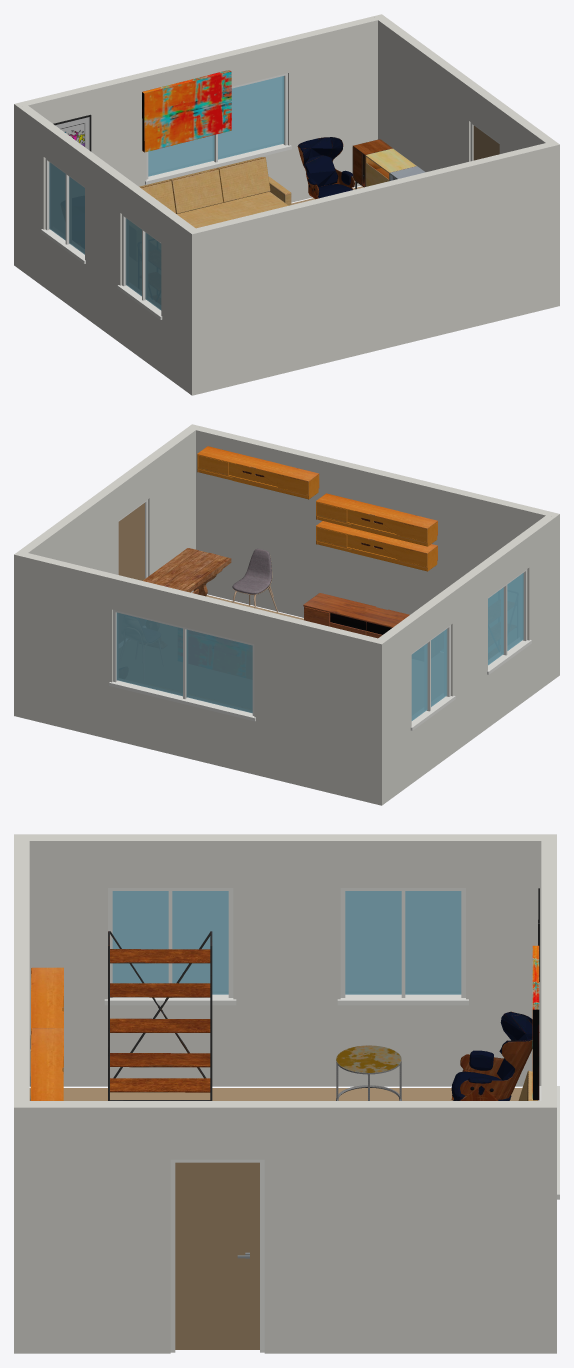
Rendered from holodeck.glb.
The picture shows the model from 3 angles, top to bottom: view 1: azimuth 30°, elevation 25°; view 2: azimuth 150°, elevation 25°; view 3: azimuth 270°, elevation 25°; orthographic projection. The views are drawn at different scales.
Parts seen in each view (by area): view 1: wall|scenesmith_067__R00|0, wall|scenesmith_067__R00|2, wall|scenesmith_067__R00|1, wall|scenesmith_067__R00|3, scenesmith_067__R00_0, wall|scenesmith_067__R00|1 Window 0 | glazing, scenesmith_067__R00_15, wall|scenesmith_067__R00|2 Window 0 | glazing, scenesmith_067__R00_3, wall|scenesmith_067__R00|2 Window 0 | jamb, scenesmith_067__R00_11, wall|scenesmith_067__R00|1 Window 0 | jamb (+2 smaller); view 2: wall|scenesmith_067__R00|1, wall|scenesmith_067__R00|0, wall|scenesmith_067__R00|2, wall|scenesmith_067__R00|3, scenesmith_067__R00_12, wall|scenesmith_067__R00|1 Window 0 | glazing, wall|scenesmith_067__R00|2 Window 0 | glazing, scenesmith_067__R00_1, scenesmith_067__R00_6, wall|scenesmith_067__R00|2 Window 0 | jamb, wall|scenesmith_067__R00|1 Window 0 | jamb, wall|scenesmith_067__R00|3 Door 0 | wood leaf (+1 smaller); view 3: wall|scenesmith_067__R00|3, wall|scenesmith_067__R00|2, wall|scenesmith_067__R00|2 Window 0 | glazing, wall|scenesmith_067__R00|3 Door 0 | wood leaf, scenesmith_067__R00_10, wall|scenesmith_067__R00|2 Window 0 | jamb, floor, scenesmith_067__R00_12, wall|scenesmith_067__R00|0, wall|scenesmith_067__R00|1, scenesmith_067__R00_3, wall|scenesmith_067__R00|3 Door 0 | jamb (+2 smaller).
Boxes of the visible parts, left/top/right/bottom form: wall|scenesmith_067__R00|0: left=187, top=143, right=559, bottom=395; wall|scenesmith_067__R00|2: left=14, top=104, right=200, bottom=395; wall|scenesmith_067__R00|1: left=14, top=16, right=377, bottom=202; wall|scenesmith_067__R00|3: left=373, top=14, right=559, bottom=171; scenesmith_067__R00_0: left=139, top=157, right=291, bottom=228; wall|scenesmith_067__R00|1 Window 0 | glazing: left=148, top=76, right=284, bottom=176; scenesmith_067__R00_15: left=142, top=70, right=231, bottom=152; wall|scenesmith_067__R00|2 Window 0 | glazing: left=49, top=162, right=161, bottom=310; scenesmith_067__R00_3: left=297, top=137, right=354, bottom=199; wall|scenesmith_067__R00|2 Window 0 | jamb: left=41, top=158, right=162, bottom=319; scenesmith_067__R00_11: left=352, top=139, right=425, bottom=189; wall|scenesmith_067__R00|1 Window 0 | jamb: left=145, top=73, right=291, bottom=184; wall|scenesmith_067__R00|1: left=23, top=553, right=386, bottom=803; wall|scenesmith_067__R00|0: left=196, top=426, right=559, bottom=617; wall|scenesmith_067__R00|2: left=373, top=514, right=559, bottom=805; wall|scenesmith_067__R00|3: left=14, top=424, right=200, bottom=717; scenesmith_067__R00_12: left=197, top=446, right=437, bottom=571; wall|scenesmith_067__R00|1 Window 0 | glazing: left=116, top=612, right=252, bottom=713; wall|scenesmith_067__R00|2 Window 0 | glazing: left=411, top=573, right=523, bottom=720; scenesmith_067__R00_1: left=303, top=593, right=409, bottom=638; scenesmith_067__R00_6: left=143, top=548, right=231, bottom=596; wall|scenesmith_067__R00|2 Window 0 | jamb: left=410, top=569, right=531, bottom=730; wall|scenesmith_067__R00|1 Window 0 | jamb: left=109, top=610, right=255, bottom=721; wall|scenesmith_067__R00|3 Door 0 | wood leaf: left=118, top=503, right=144, bottom=580; wall|scenesmith_067__R00|3: left=14, top=1101, right=556, bottom=1353; wall|scenesmith_067__R00|2: left=29, top=834, right=541, bottom=1086; wall|scenesmith_067__R00|2 Window 0 | glazing: left=112, top=891, right=461, bottom=994; wall|scenesmith_067__R00|3 Door 0 | wood leaf: left=175, top=1162, right=259, bottom=1349; scenesmith_067__R00_10: left=108, top=931, right=212, bottom=1100; wall|scenesmith_067__R00|2 Window 0 | jamb: left=104, top=888, right=468, bottom=1005; floor: left=29, top=1088, right=522, bottom=1100; scenesmith_067__R00_12: left=30, top=967, right=63, bottom=1100; wall|scenesmith_067__R00|0: left=14, top=834, right=29, bottom=1100; wall|scenesmith_067__R00|1: left=541, top=834, right=556, bottom=1100; scenesmith_067__R00_3: left=451, top=1011, right=539, bottom=1100; wall|scenesmith_067__R00|3 Door 0 | jamb: left=170, top=1159, right=264, bottom=1352.
Bounding box in the file's own units: 6.23 × 2.61 × 5.23.
Materials: 18 (12 with a texture image).
